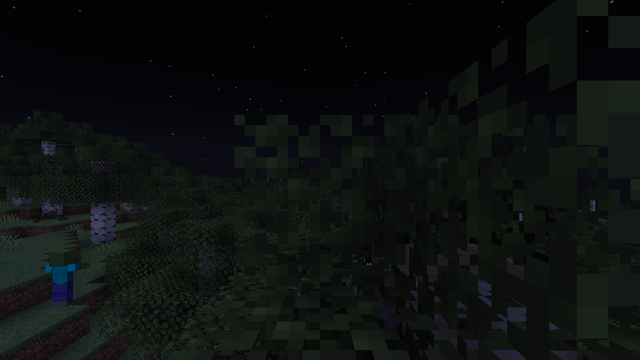araignees: (34, 210, 66, 222)
zombies: (46, 250, 78, 309)
